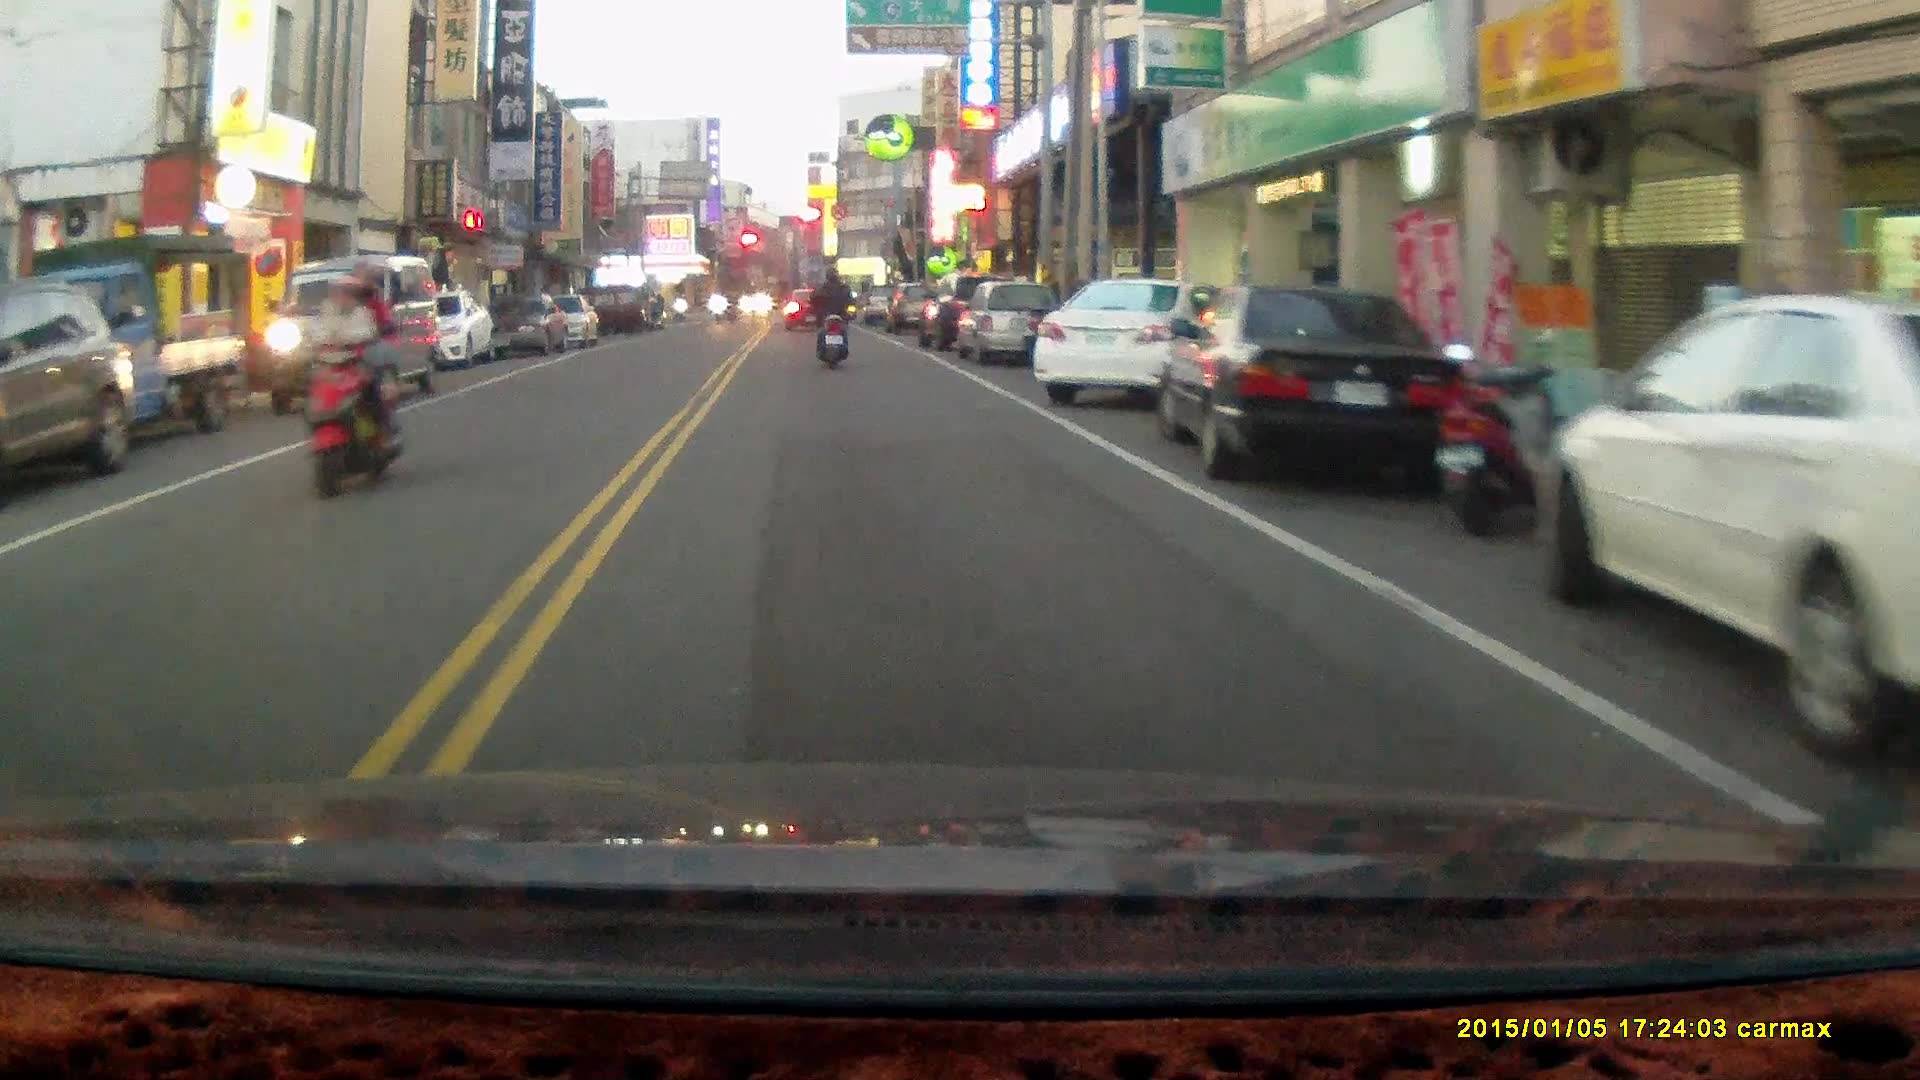rider: (297, 255, 410, 501), (807, 265, 854, 372)
vehicle: (1552, 296, 1920, 787), (1155, 282, 1470, 484), (22, 239, 265, 472), (1, 283, 144, 508), (1032, 274, 1229, 410), (269, 258, 438, 409), (956, 282, 1068, 373)
